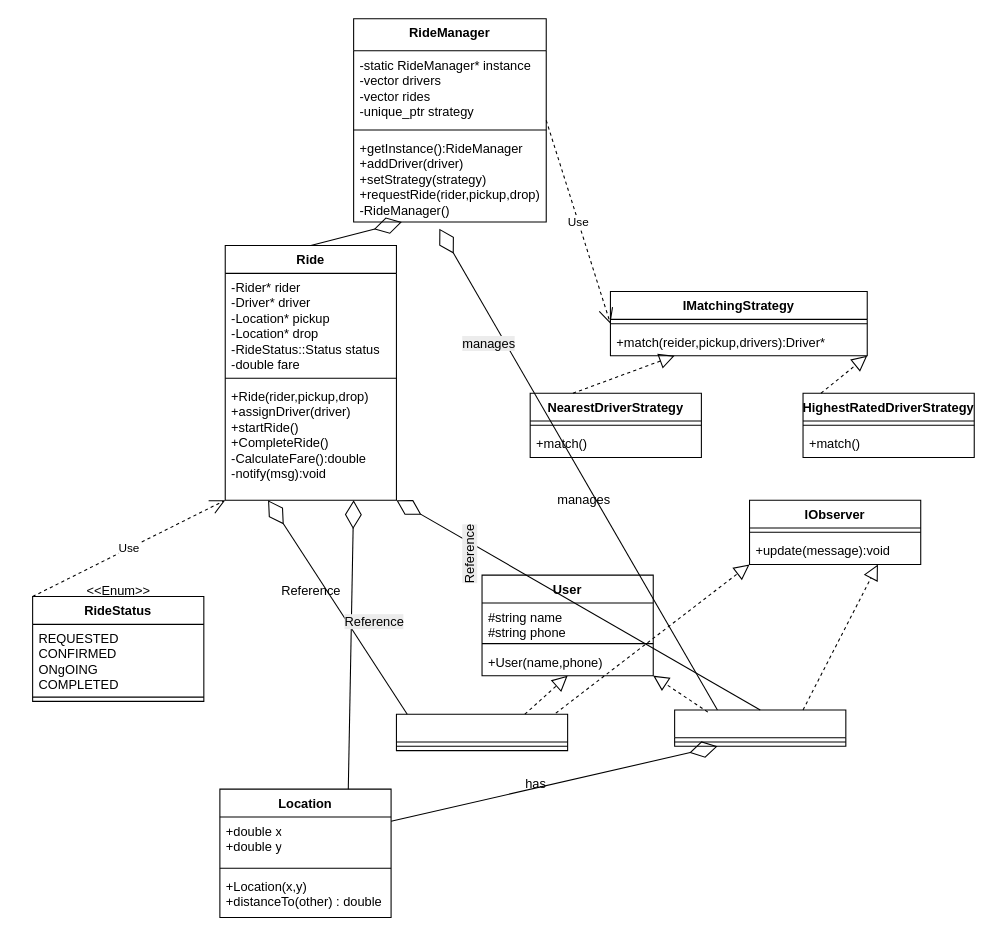
This 993x939 diagram has some shape labels left out. The shapes that lost their labels are listed below. From the top down, each one's centre as x and y in pixels, then its label:
At [481,732]: "Rider".
At [760,727]: "Driver".
